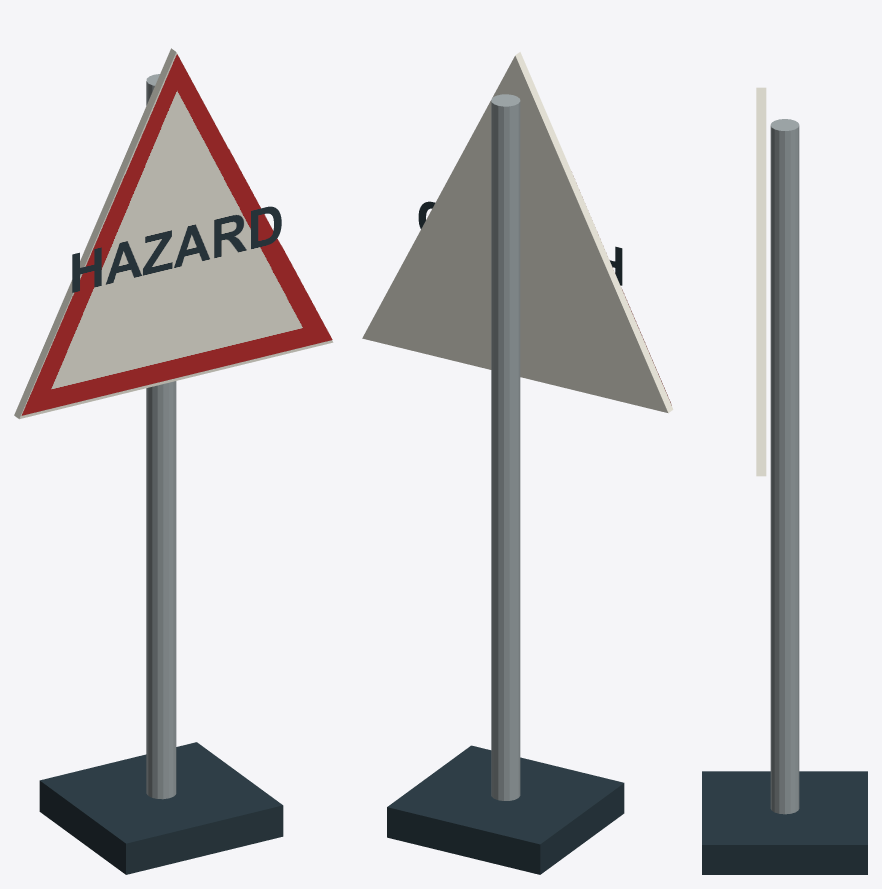
The model's file is scendance-plan-hazard.glb.
The picture shows the model from 3 angles, left to right: view 1: azimuth 30°, elevation 25°; view 2: azimuth 150°, elevation 25°; view 3: azimuth 270°, elevation 25°; orthographic projection. The views are drawn at different scales.
Bounding box in the file's own units: 0.84 × 2 × 0.4.
Materials: 4 (1 with a texture image).
